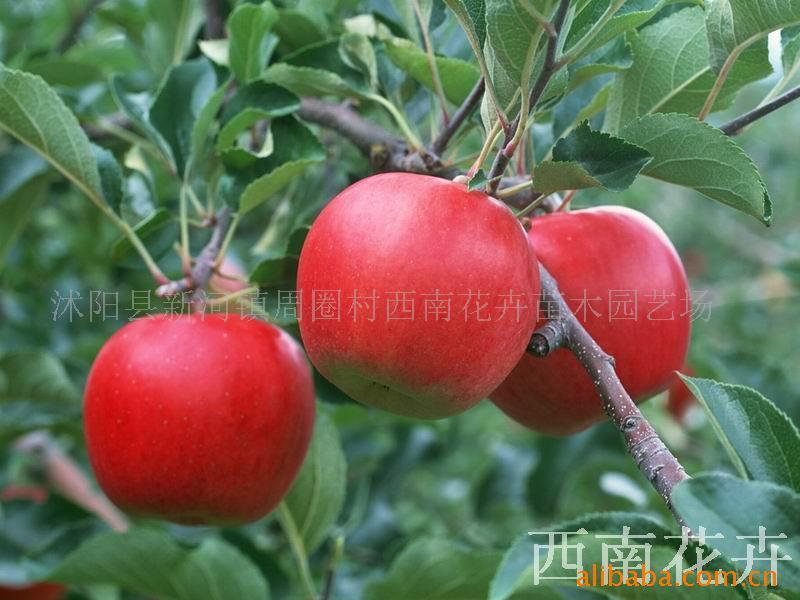apple: (287, 175, 539, 427), (77, 313, 317, 526), (491, 205, 691, 432)
